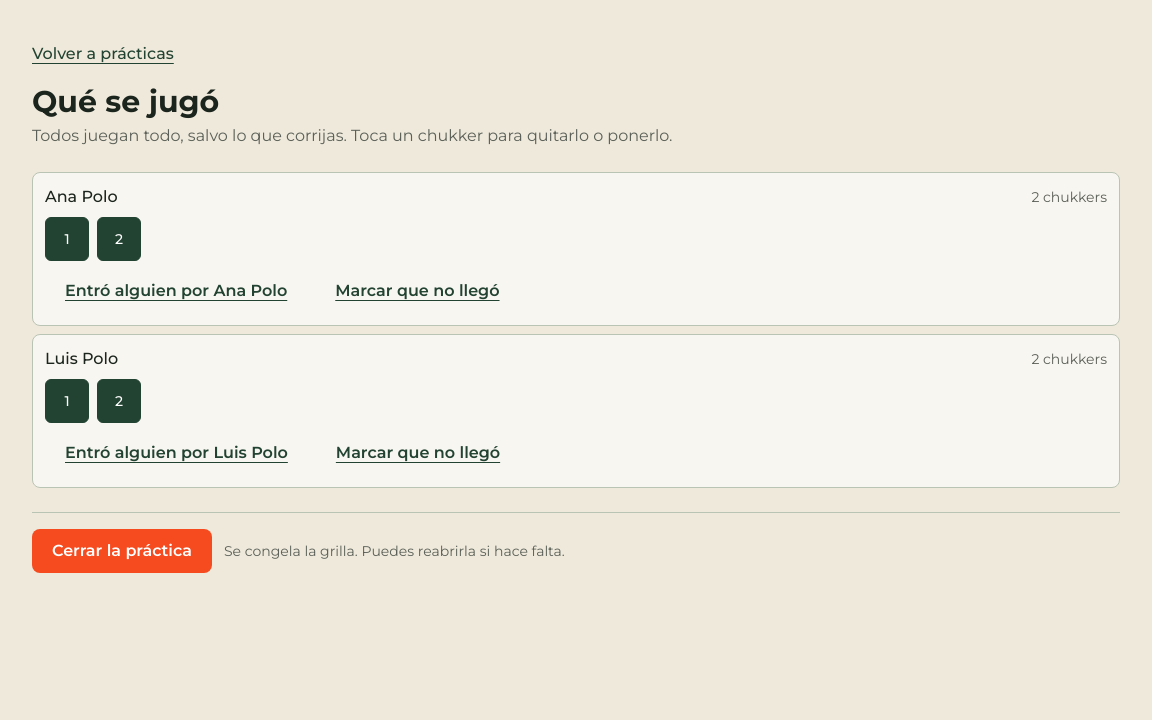
Test: La grilla del comisario (T-731) › si el cierre se rechaza, la pantalla muestra el motivo del servidor
The width and height of the screenshot is (1152, 720).
Click the button "Cerrar la práctica" at x=122, y=551, box [32,529,212,573]
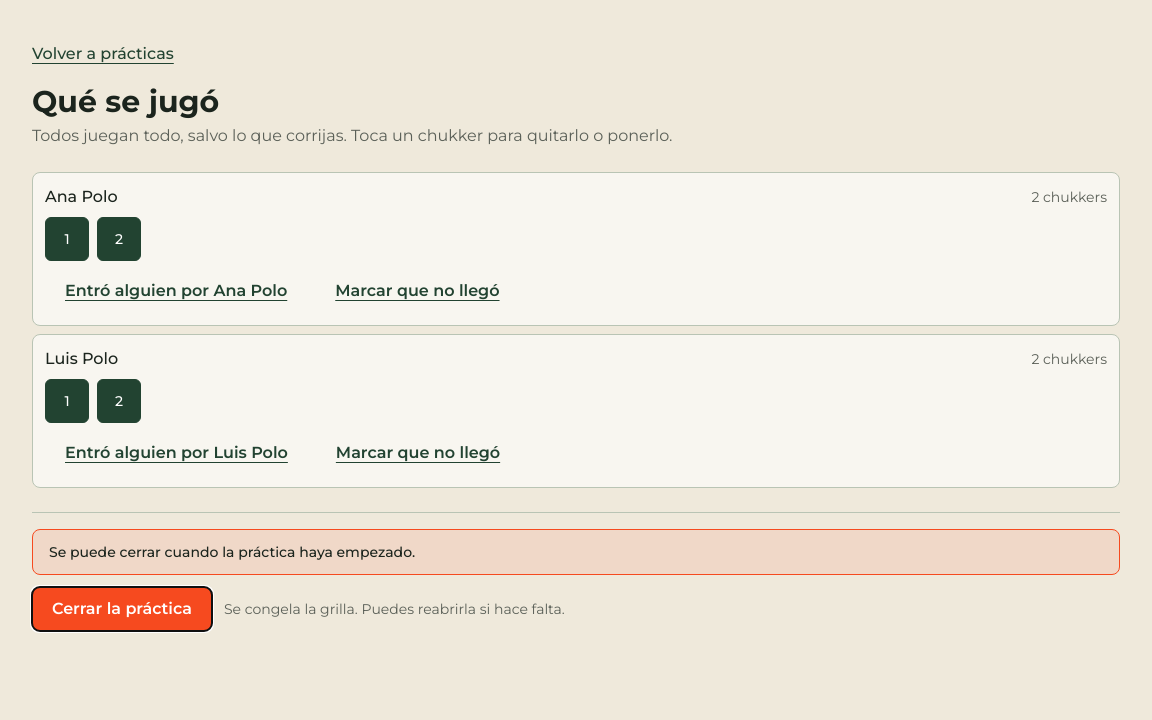
Check: the text "Se puede cerrar cuando la práctica haya empezado." is shown, box [32,529,1120,575]
